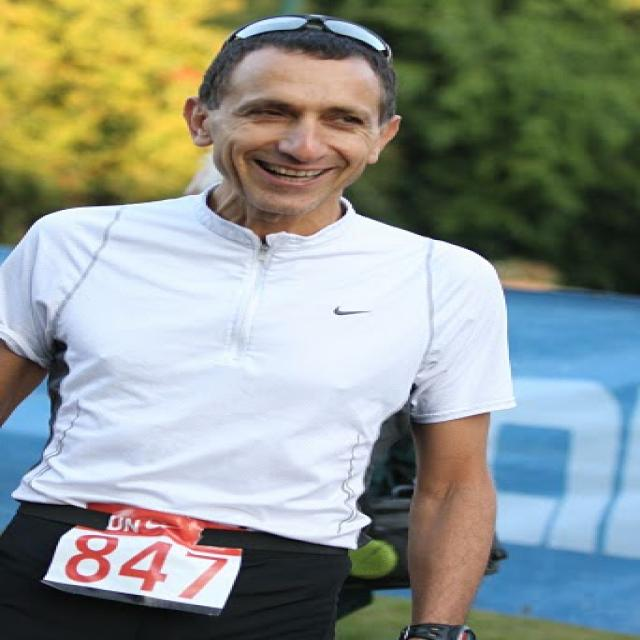Bib: (54, 534, 230, 599)
